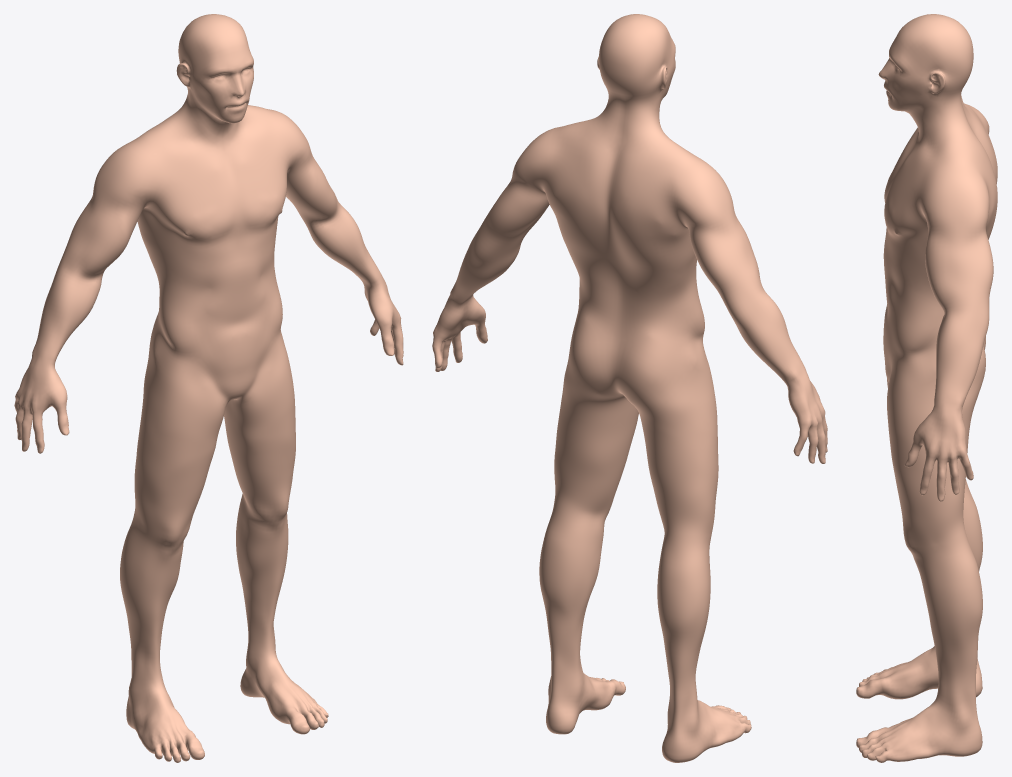
The model's file is FinalBaseMesh.obj.
3 renders of one model, left to right at view 1: azimuth 30°, elevation 25°; view 2: azimuth 150°, elevation 25°; view 3: azimuth 270°, elevation 25°, orthographic.
Visible parts, largest first — view 1: Group1; view 2: Group1; view 3: Group1.
Boxes of the visible parts, x1,y1,x2,y2 form: Group1: (14,14,403,762); Group1: (432,14,827,762); Group1: (856,14,997,762).
Bounding box in the file's own units: 11.69 × 20.74 × 3.77.
